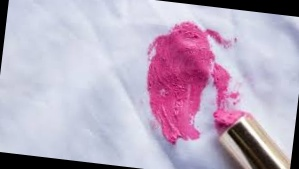lipstick: (131, 21, 244, 147)
